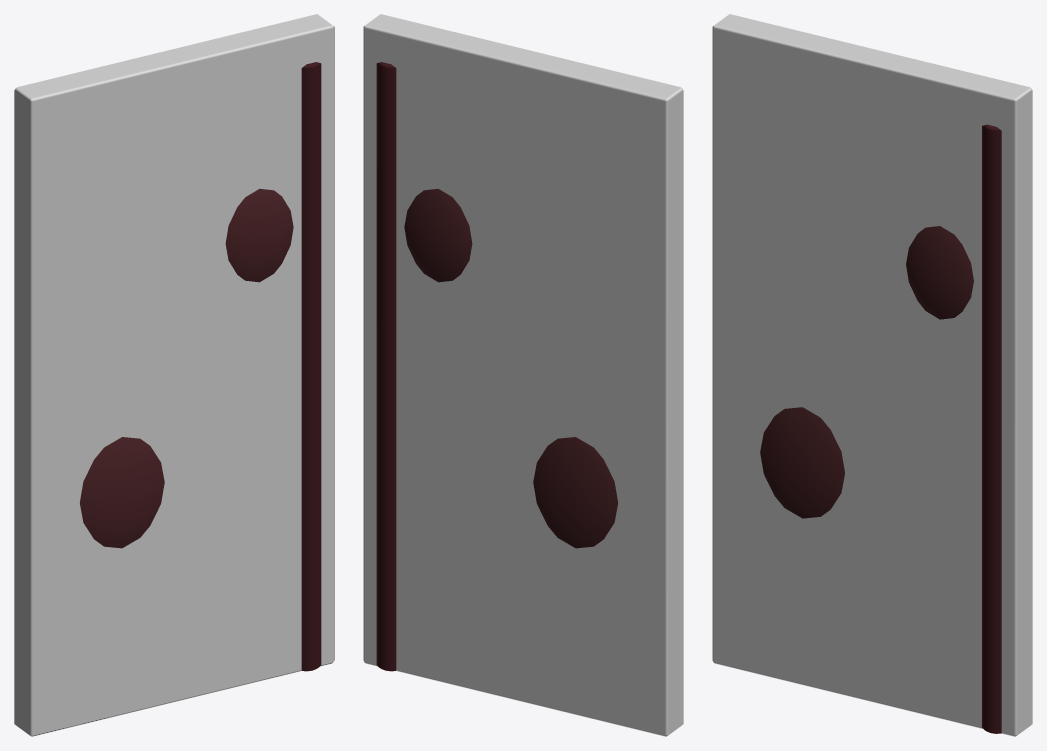
File: living-cave-wall-swollen.5476e480.glb
3 views of the same model, side by side, from view 1: azimuth 30°, elevation 25°; view 2: azimuth 150°, elevation 25°; view 3: azimuth 330°, elevation 25° (orthographic).
Parts seen in each view (by area): view 1: body; view 2: body; view 3: body.
Part boxes in pixels (box(x1,y1,x2,y2)): body: box(14, 14, 334, 736); body: box(363, 14, 683, 736); body: box(712, 14, 1032, 736).
Size of the model in its own units: 1 by 2 by 0.14.
